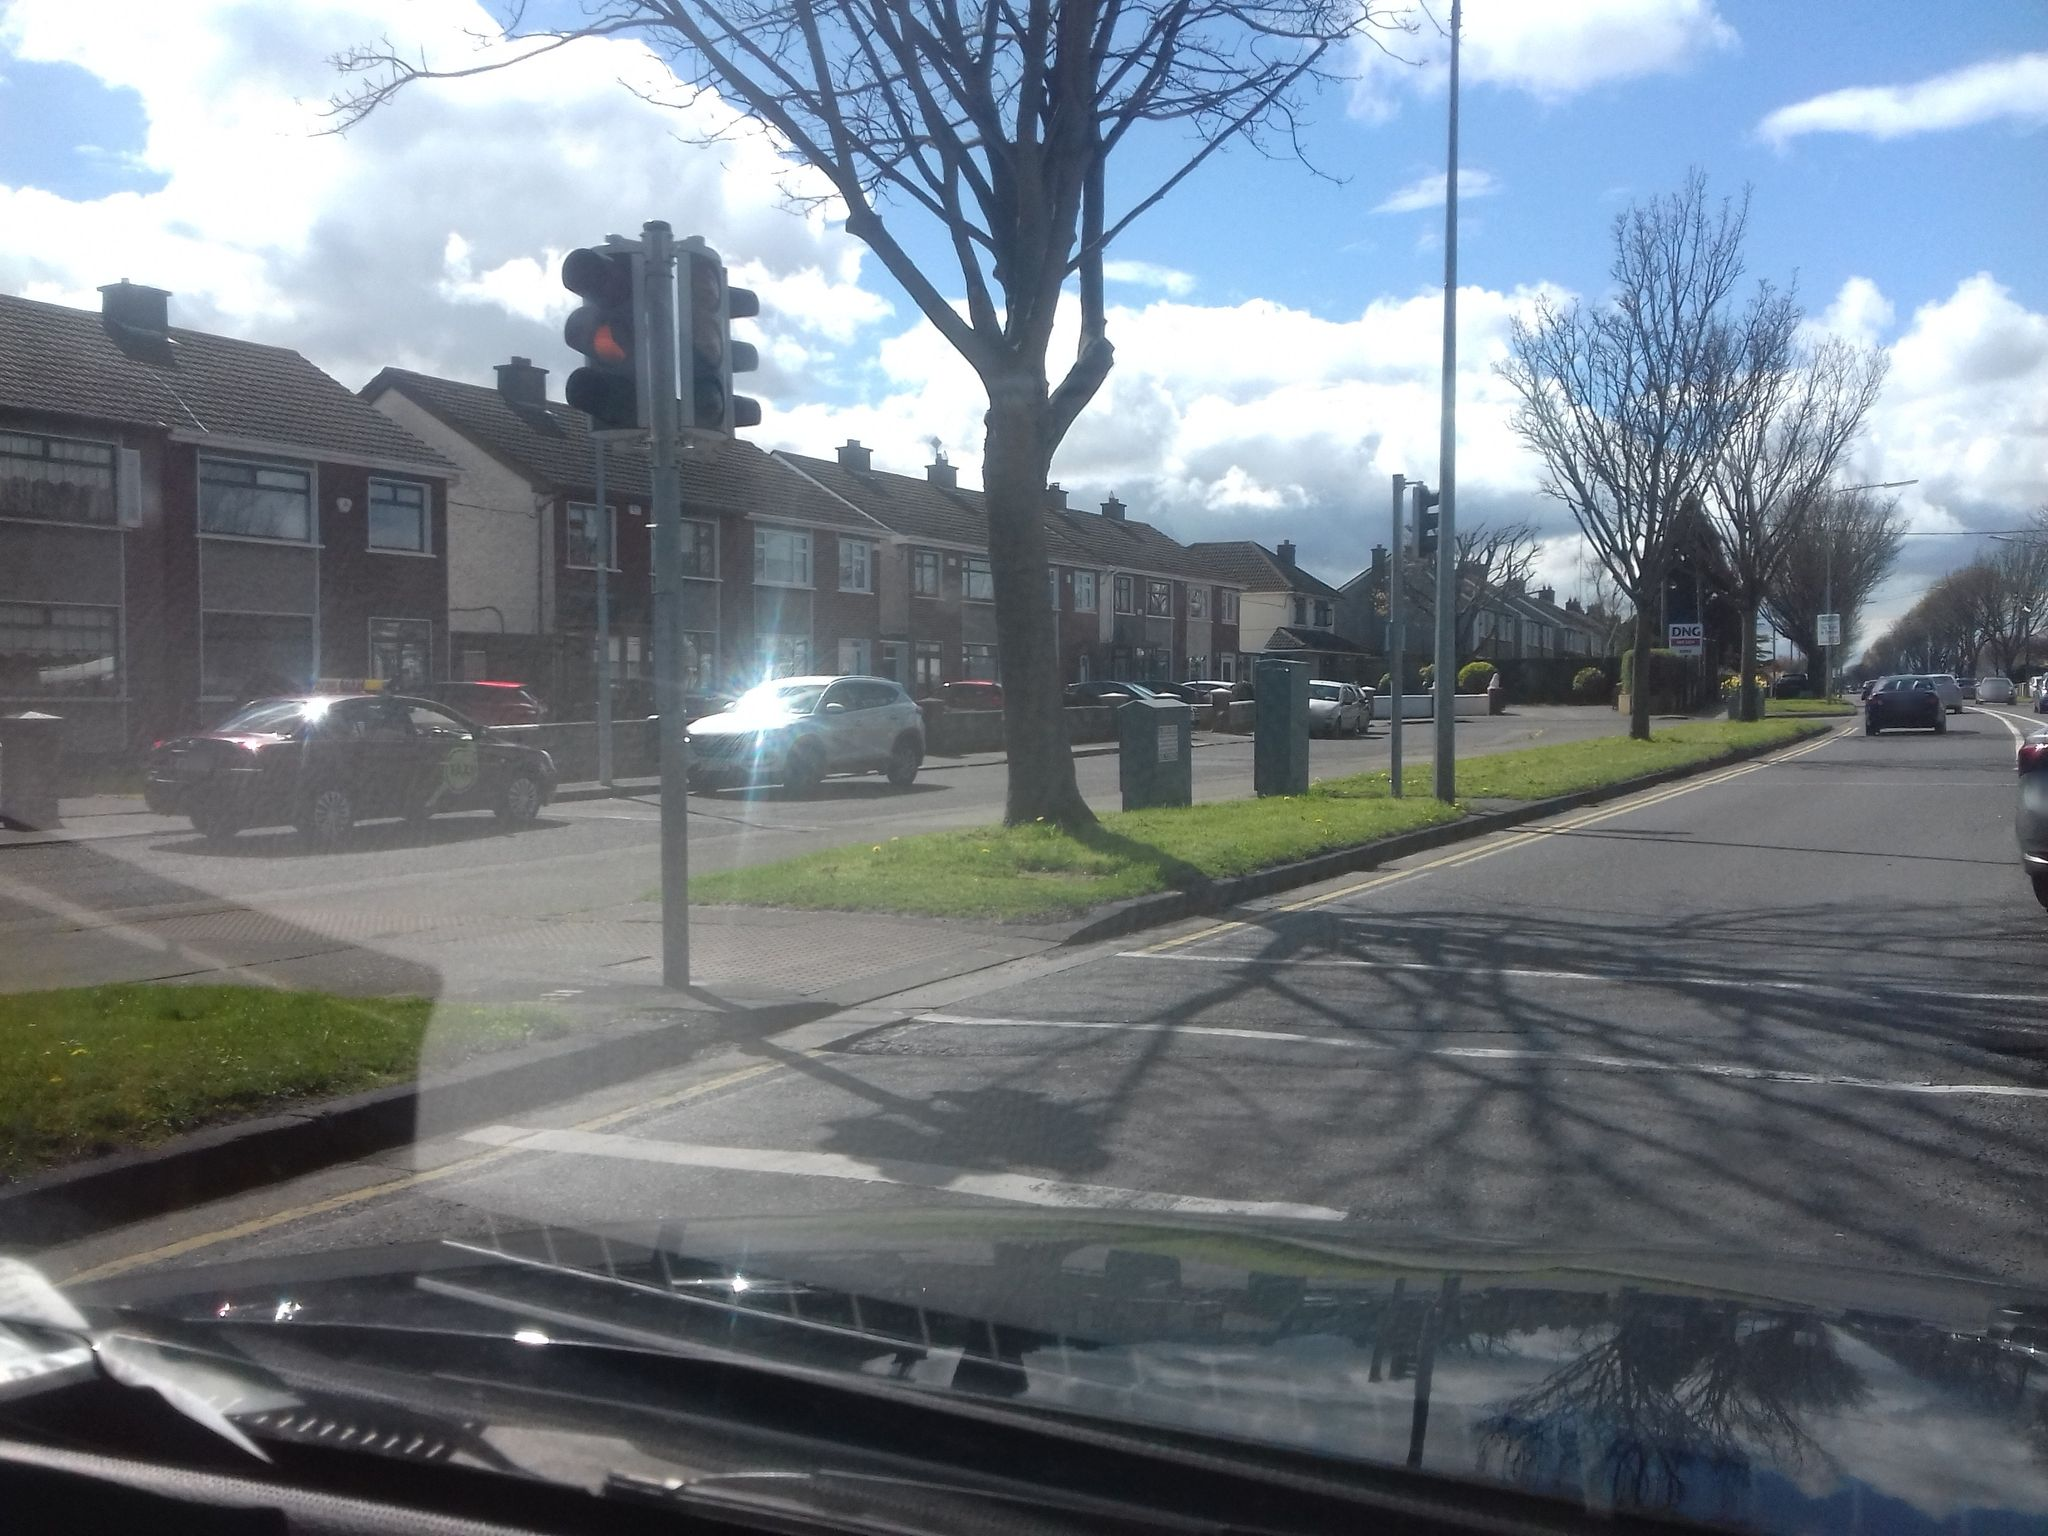property sign: (1661, 608, 1713, 671)
